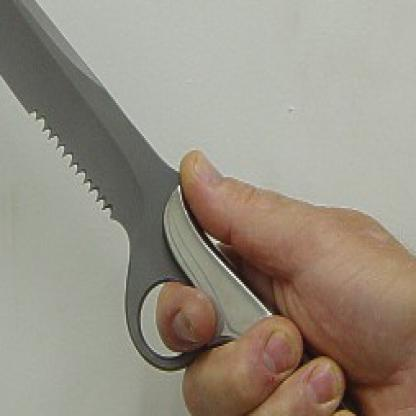knife: (0, 0, 367, 414)
